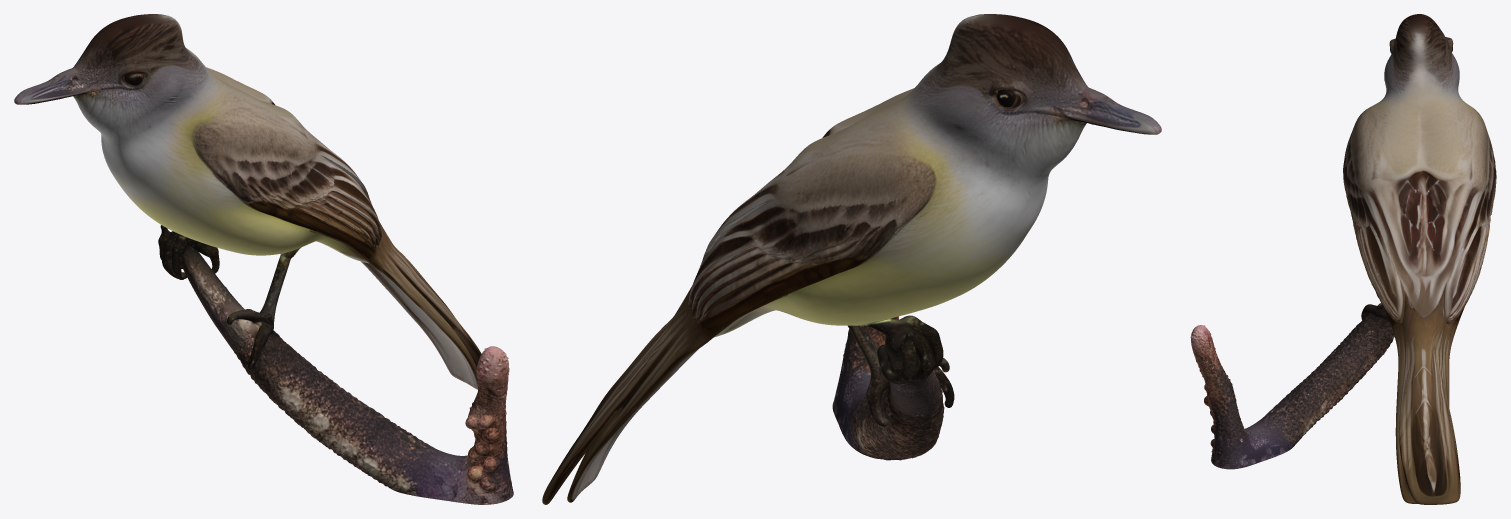
The model's file is nm__flycatcher.glb.
The picture shows the model from 3 angles, left to right: view 1: azimuth 30°, elevation 25°; view 2: azimuth 150°, elevation 25°; view 3: azimuth 270°, elevation 25°; orthographic projection. The views are drawn at different scales.
Parts seen in each view (by area): view 1: Object_2, Object_3; view 2: Object_2, Object_3; view 3: Object_2, Object_3.
Boxes of the visible parts, x1,y1,x2,y2 form: Object_2: (14, 14, 495, 504); Object_3: (14, 14, 513, 504); Object_2: (542, 14, 1159, 504); Object_3: (691, 14, 1161, 460); Object_2: (1245, 14, 1496, 504); Object_3: (1190, 15, 1495, 469).
Size of the model in its own units: 0.6184 by 0.5637 by 0.4419.
1 material, 1 textured.
